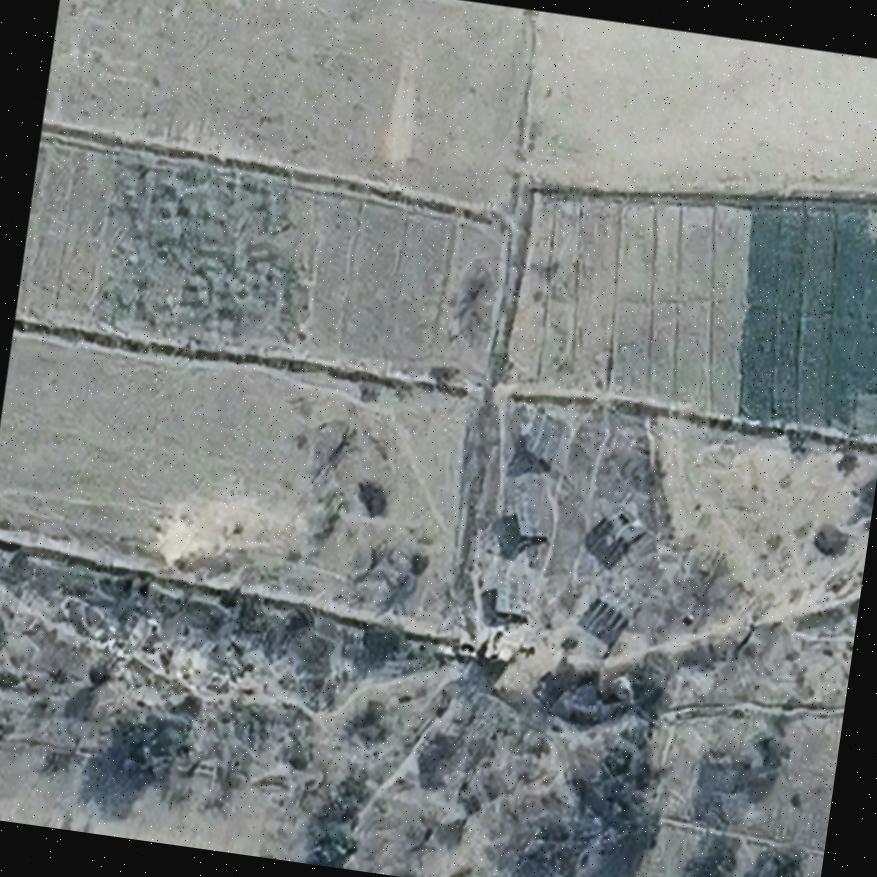Solarpanel: (589, 578, 641, 622), (602, 503, 644, 552)
